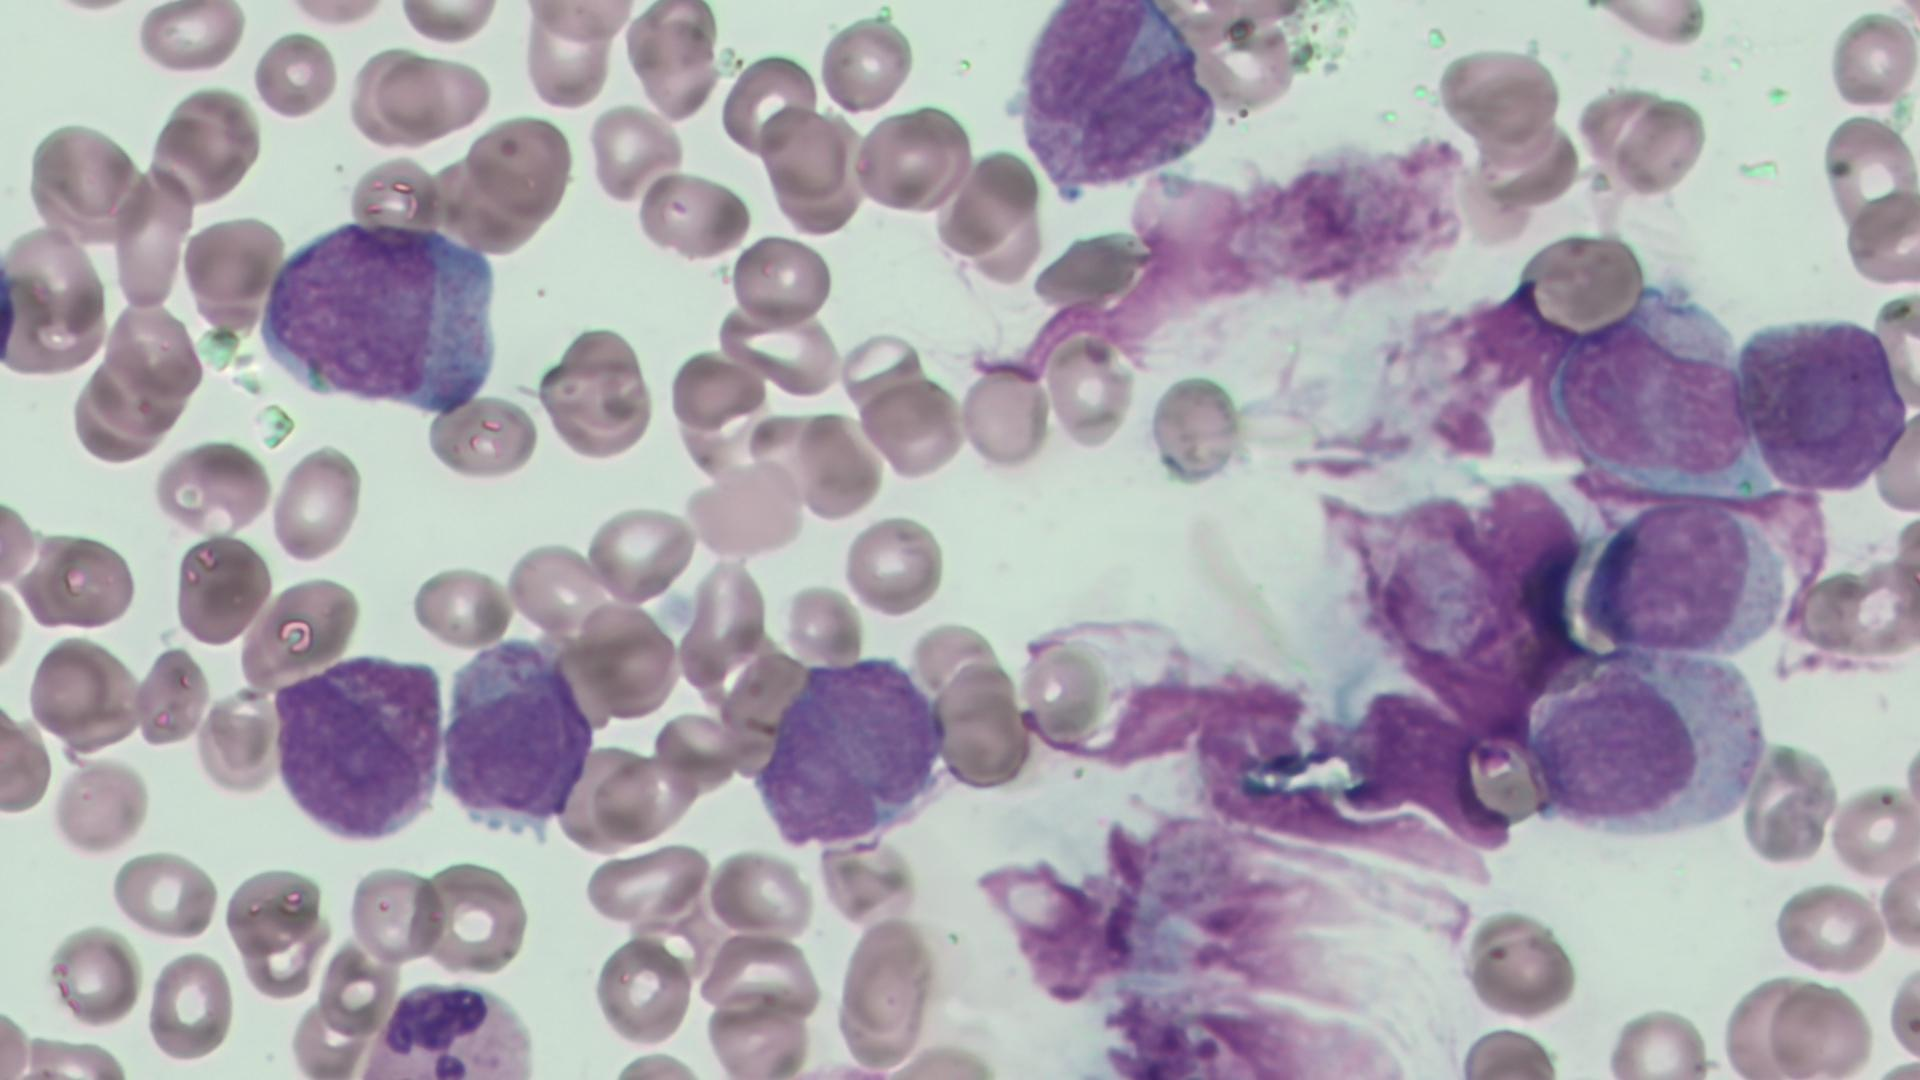RBC: (1738, 310, 1917, 495), (1575, 496, 1774, 658), (1578, 80, 1710, 198), (21, 116, 146, 239), (852, 100, 976, 218), (3, 222, 108, 357), (835, 914, 938, 1052), (25, 632, 142, 752), (418, 856, 530, 980), (1797, 554, 1920, 665), (1460, 910, 1580, 1022), (538, 348, 655, 462), (1433, 42, 1564, 142), (152, 435, 273, 542), (1126, 167, 1250, 272), (1741, 740, 1840, 869), (591, 930, 694, 1050), (580, 840, 713, 932), (463, 111, 578, 218), (1820, 109, 1917, 235), (182, 210, 287, 324), (266, 443, 364, 567), (113, 167, 196, 313), (580, 502, 696, 605), (1767, 880, 1890, 975), (1147, 371, 1246, 487), (171, 530, 268, 647), (757, 102, 862, 208), (840, 512, 945, 618), (636, 167, 753, 262), (860, 375, 965, 480), (505, 538, 615, 640), (376, 47, 495, 141), (422, 390, 541, 484), (32, 529, 138, 632), (729, 229, 836, 332), (1044, 332, 1137, 450), (1762, 978, 1874, 1075), (957, 357, 1052, 469), (584, 102, 684, 207), (145, 947, 235, 1064), (348, 862, 448, 967), (702, 847, 814, 939), (818, 13, 916, 117), (108, 847, 218, 940), (49, 756, 152, 855), (1824, 7, 1917, 115), (47, 924, 142, 1029), (1826, 781, 1917, 882), (407, 563, 512, 649), (131, 3, 251, 76), (1602, 1000, 1716, 1077), (131, 644, 210, 750), (1840, 187, 1917, 293), (251, 28, 339, 117), (782, 579, 865, 666), (1575, 0, 1718, 49), (0, 702, 54, 816), (1456, 1023, 1567, 1077), (1870, 401, 1917, 517), (390, 0, 505, 45), (1875, 841, 1920, 952), (1880, 952, 1920, 1071)
WBC: (251, 214, 506, 411), (1526, 653, 1768, 845), (1010, 0, 1228, 194), (1571, 498, 1789, 659), (1738, 309, 1920, 500), (436, 633, 604, 833), (272, 651, 444, 843), (353, 976, 542, 1076)
